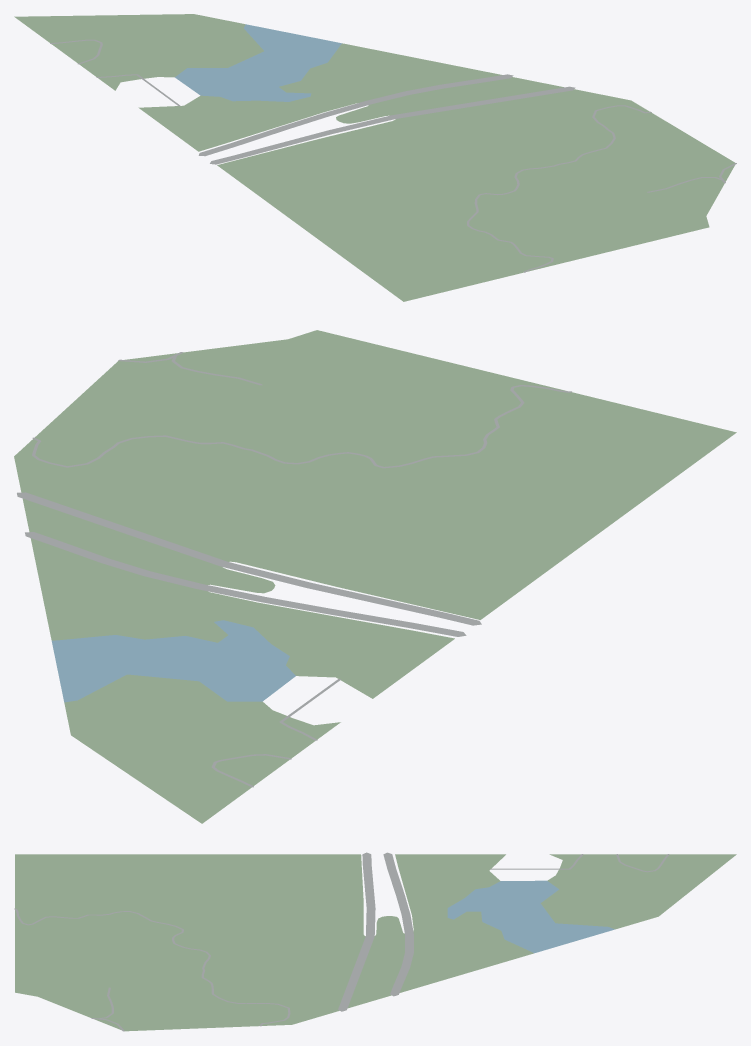
Rendered from 17_8-known-fine.glb.
3 renders of one model, top to bottom at view 1: azimuth 30°, elevation 25°; view 2: azimuth 150°, elevation 25°; view 3: azimuth 270°, elevation 25°, orthographic. The views are drawn at different scales.
Size of the model in its own units: 570 by 0.1 by 972.
